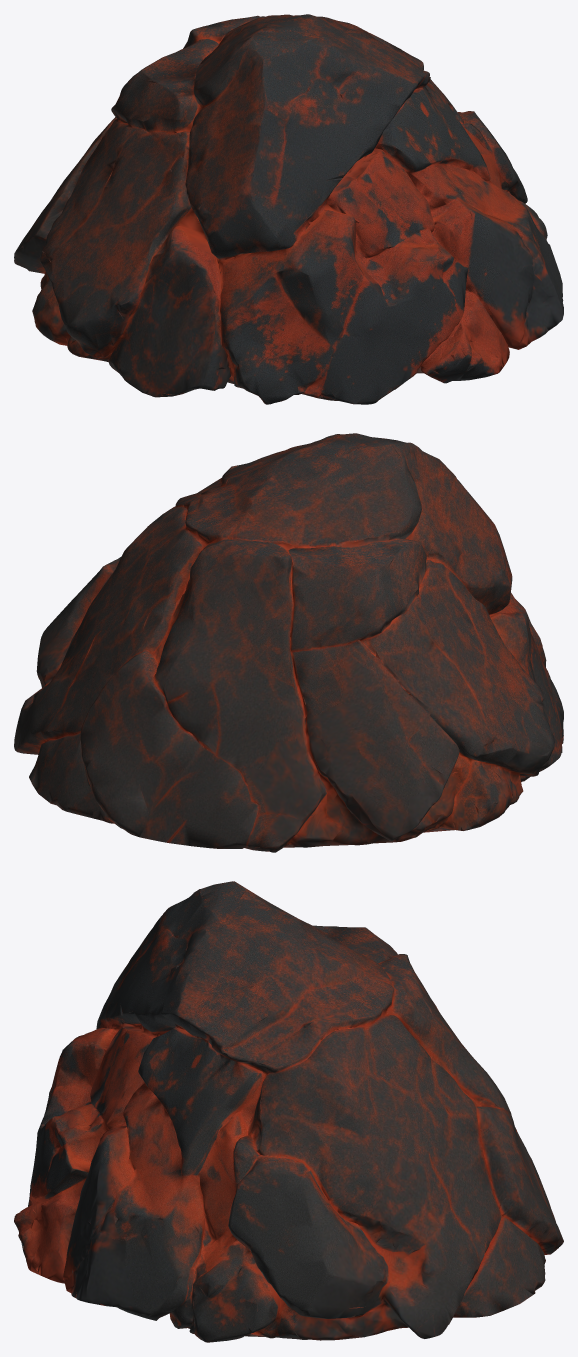
File: rock.glb
3 renders of one model, top to bottom at view 1: azimuth 30°, elevation 25°; view 2: azimuth 150°, elevation 25°; view 3: azimuth 270°, elevation 25°, orthographic. The views are drawn at different scales.
Parts seen in each view (by area): view 1: mesh_node; view 2: mesh_node; view 3: mesh_node.
Boxes of the visible parts, x1,y1,x2,y2 form: mesh_node: (14, 14, 563, 404); mesh_node: (14, 433, 563, 852); mesh_node: (14, 881, 563, 1342).
Size of the model in its own units: 1.67 by 1 by 1.59.
Materials: 1 (1 with a texture image).
